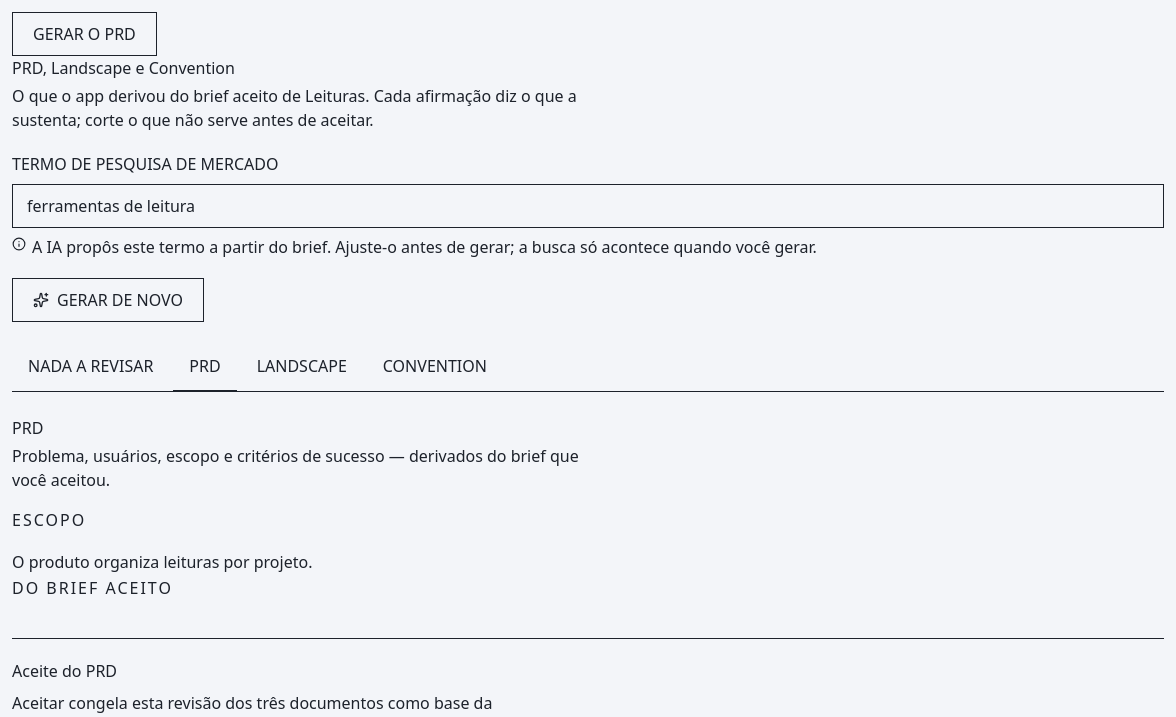
Scenario: bloqueio do Landscape (critério 4) › mostra o bloqueio com a retomada, dentro do documento
The image size is (1176, 717).
Click the tab "Landscape".
click(302, 367)  # box x1=241 y1=342 x2=363 y2=392
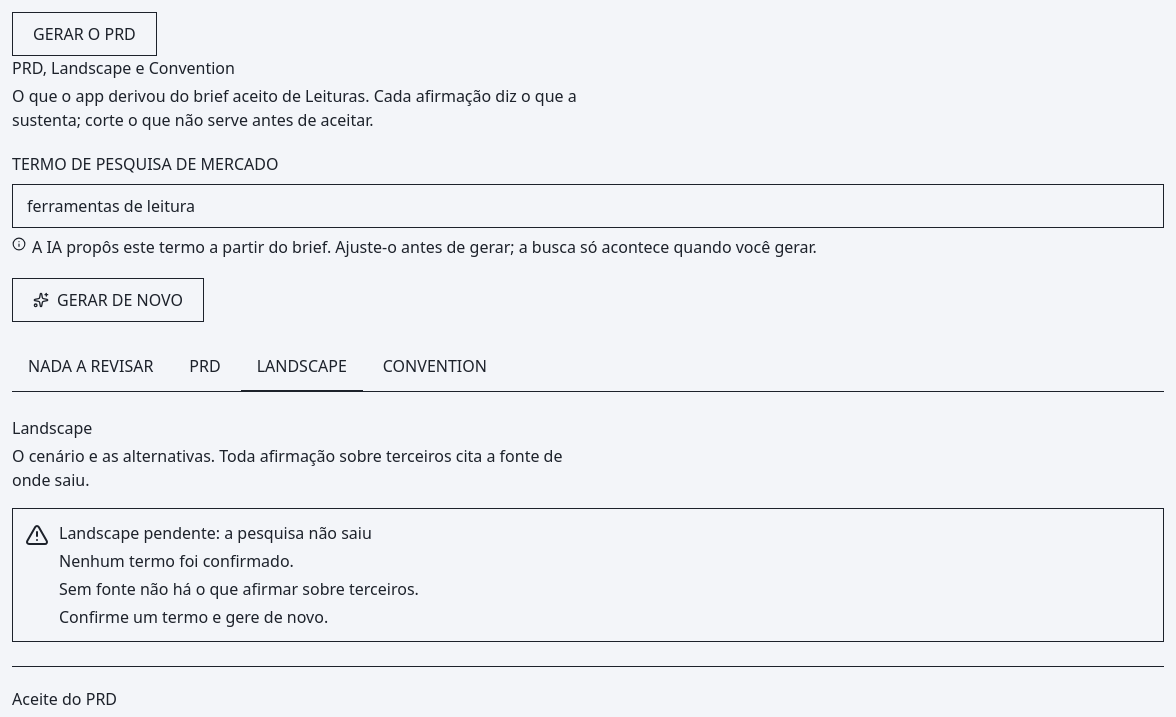
Expected: the text "Confirme um termo e gere de novo." is shown, x1=59 y1=606 x2=328 y2=628
